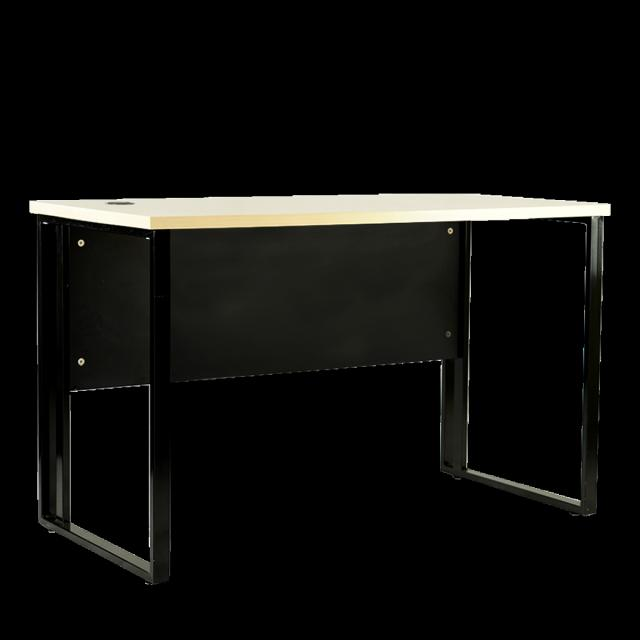table: (14, 172, 624, 587)
